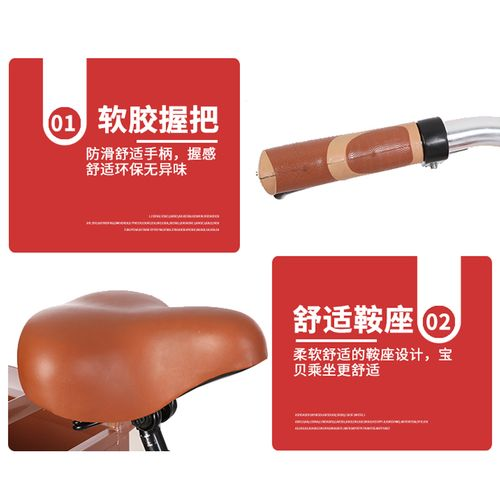empty: (7, 287, 274, 449)
